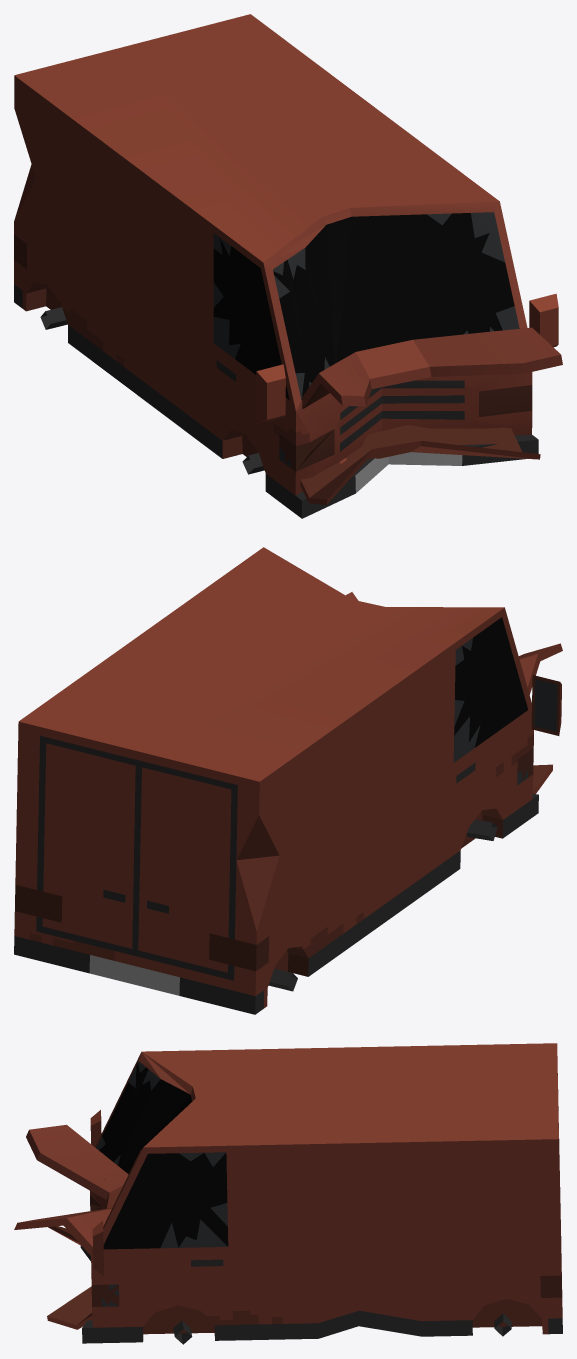
File: SA_Prop_BurntBrown_Van_01.glb
3 renders of one model, top to bottom at view 1: azimuth 30°, elevation 25°; view 2: azimuth 150°, elevation 25°; view 3: azimuth 270°, elevation 25°, orthographic. The views are drawn at different scales.
Parts seen in each view (by area): view 1: SA_Prop_BurntBrown_Van_01; view 2: SA_Prop_BurntBrown_Van_01; view 3: SA_Prop_BurntBrown_Van_01.
Part boxes in pixels (box(x1,y1,x2,y2)): SA_Prop_BurntBrown_Van_01: box(14, 14, 562, 518); SA_Prop_BurntBrown_Van_01: box(14, 547, 562, 1014); SA_Prop_BurntBrown_Van_01: box(14, 1043, 562, 1344).
Bounding box in the file's own units: 1.45 × 1.1 × 2.69.
1 material, 1 textured.
